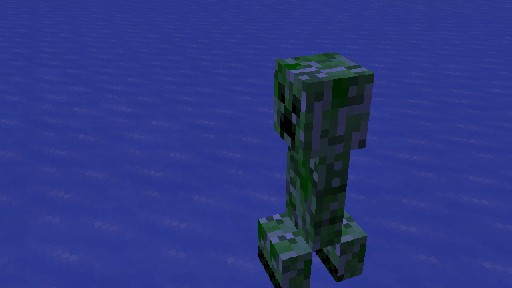creeper: (257, 52, 374, 288)
